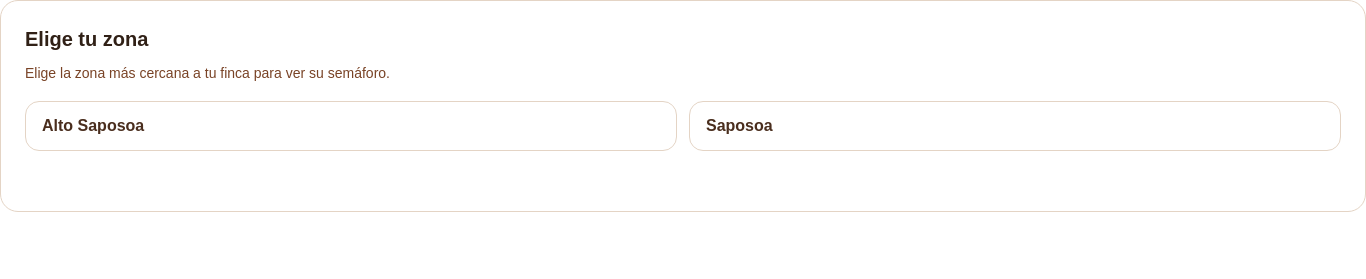
Test case: ZonaSelector › si no hay sesión (401) lo dice
The width and height of the screenshot is (1366, 279).
Click the button "Saposoa" at (739, 126), box [689,101,1341,151]
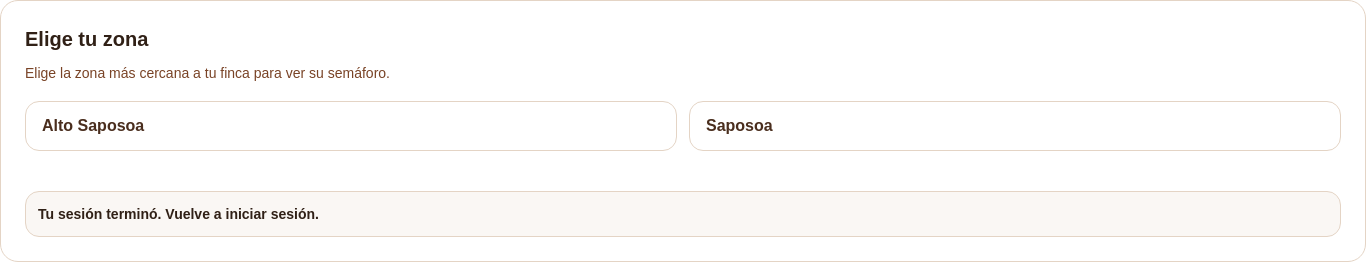
Check: the message reads "Tu sesión terminó. Vuelve a iniciar sesión.", box [38,206,319,222]
